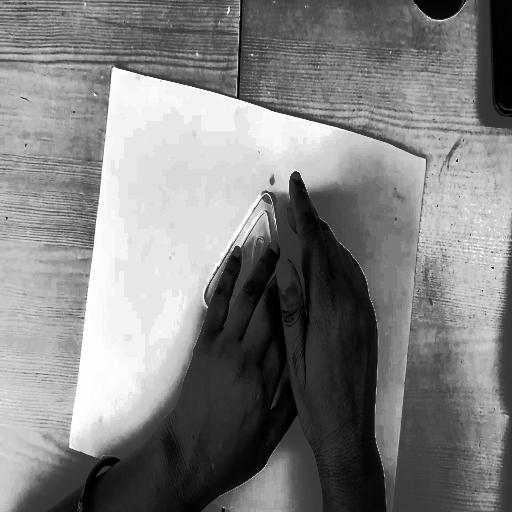bottom_left: (64, 432, 74, 453)
signboard: (169, 160, 341, 471)
top_left: (108, 56, 118, 74)
top_right: (421, 148, 433, 169)
